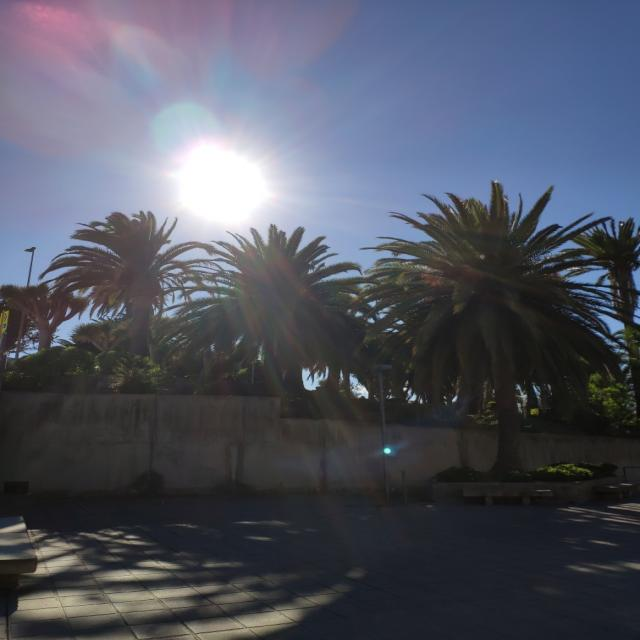Palm-Trees: (371, 186, 640, 473), (66, 214, 220, 362)
